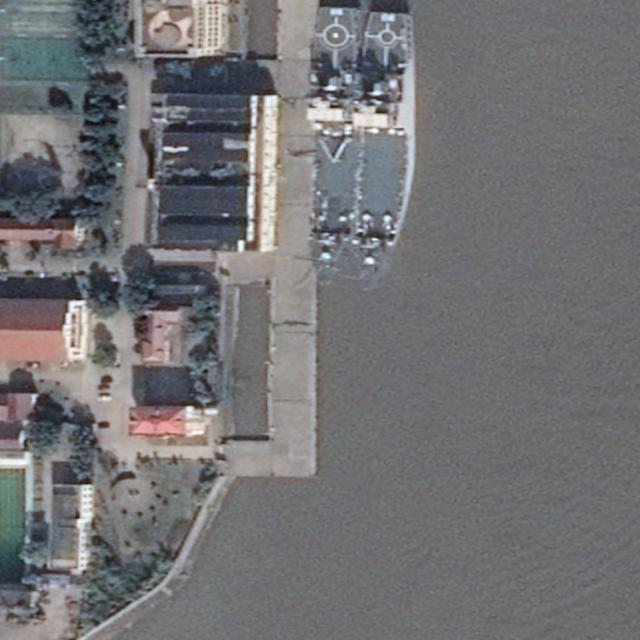Landing: (303, 5, 363, 288), (354, 12, 413, 292)
